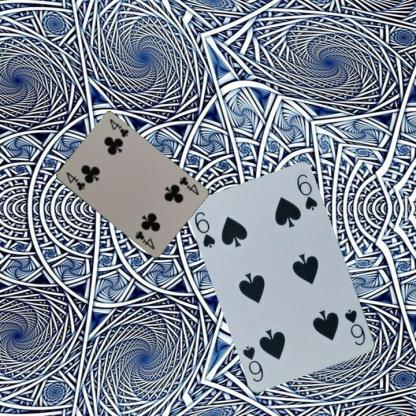4c: (63, 169, 87, 192), (176, 174, 200, 196)
6s: (342, 306, 367, 347), (192, 209, 217, 250)
